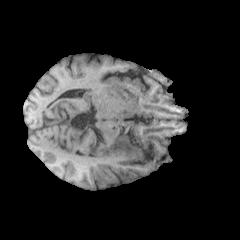glioma: (86, 139, 140, 161)
